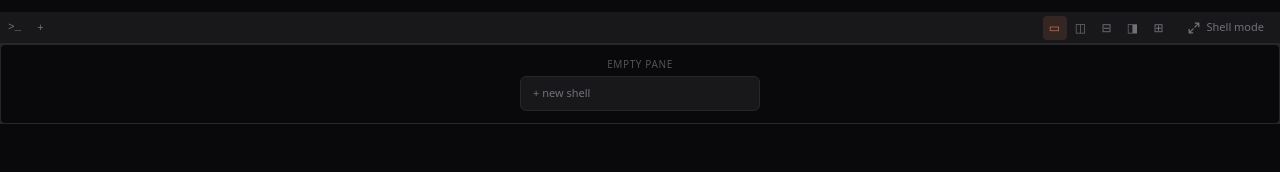
Scenario: ShellSurface — a new shell takes the keyboard › shows the new shell in the focused pane, since panes never auto-fill
Click the button titled "New shell". click: [40, 28]
box: [29, 15, 52, 40]
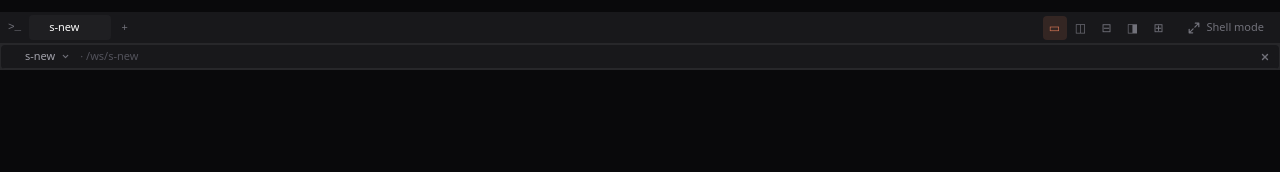
Check: the 1st text "s-new" is shown, box [49, 19, 80, 36]
